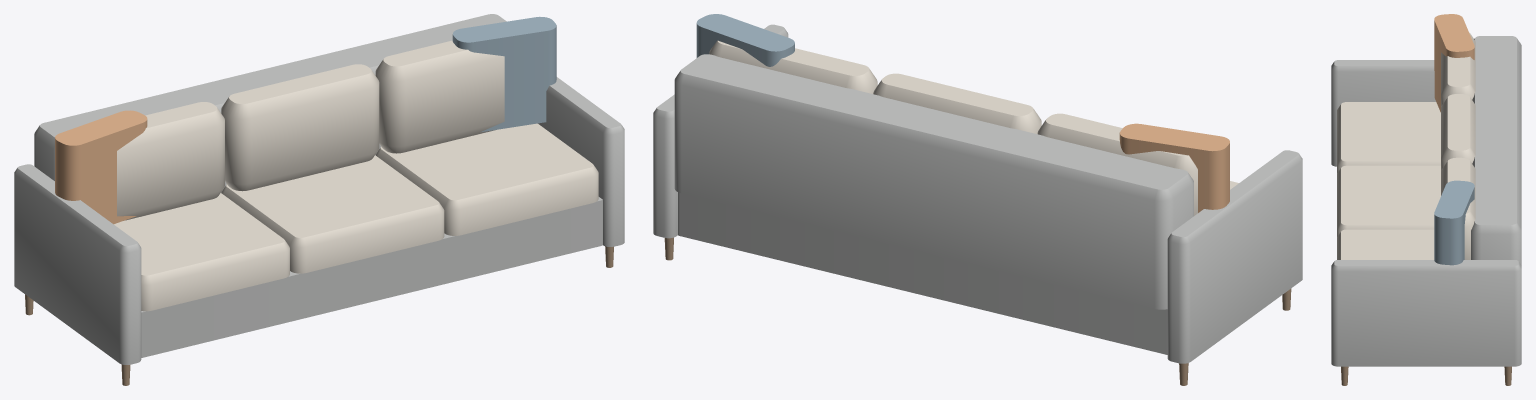
The picture shows the model from 3 angles, left to right: view 1: azimuth 30°, elevation 25°; view 2: azimuth 150°, elevation 25°; view 3: azimuth 270°, elevation 25°; orthographic projection. The views are drawn at different scales.
Parts seen in each view (by area): view 1: Sofa tay mỏng Chiều dài=2200; view 2: Sofa tay mỏng Chiều dài=2200; view 3: Sofa tay mỏng Chiều dài=2200.
Boxes of the visible parts, left/top/right/bottom form: Sofa tay mỏng Chiều dài=2200: left=14, top=14, right=624, bottom=385; Sofa tay mỏng Chiều dài=2200: left=653, top=14, right=1302, bottom=385; Sofa tay mỏng Chiều dài=2200: left=1331, top=14, right=1521, bottom=385.
Size of the model in its own units: 2.2 by 0.83 by 0.85.
